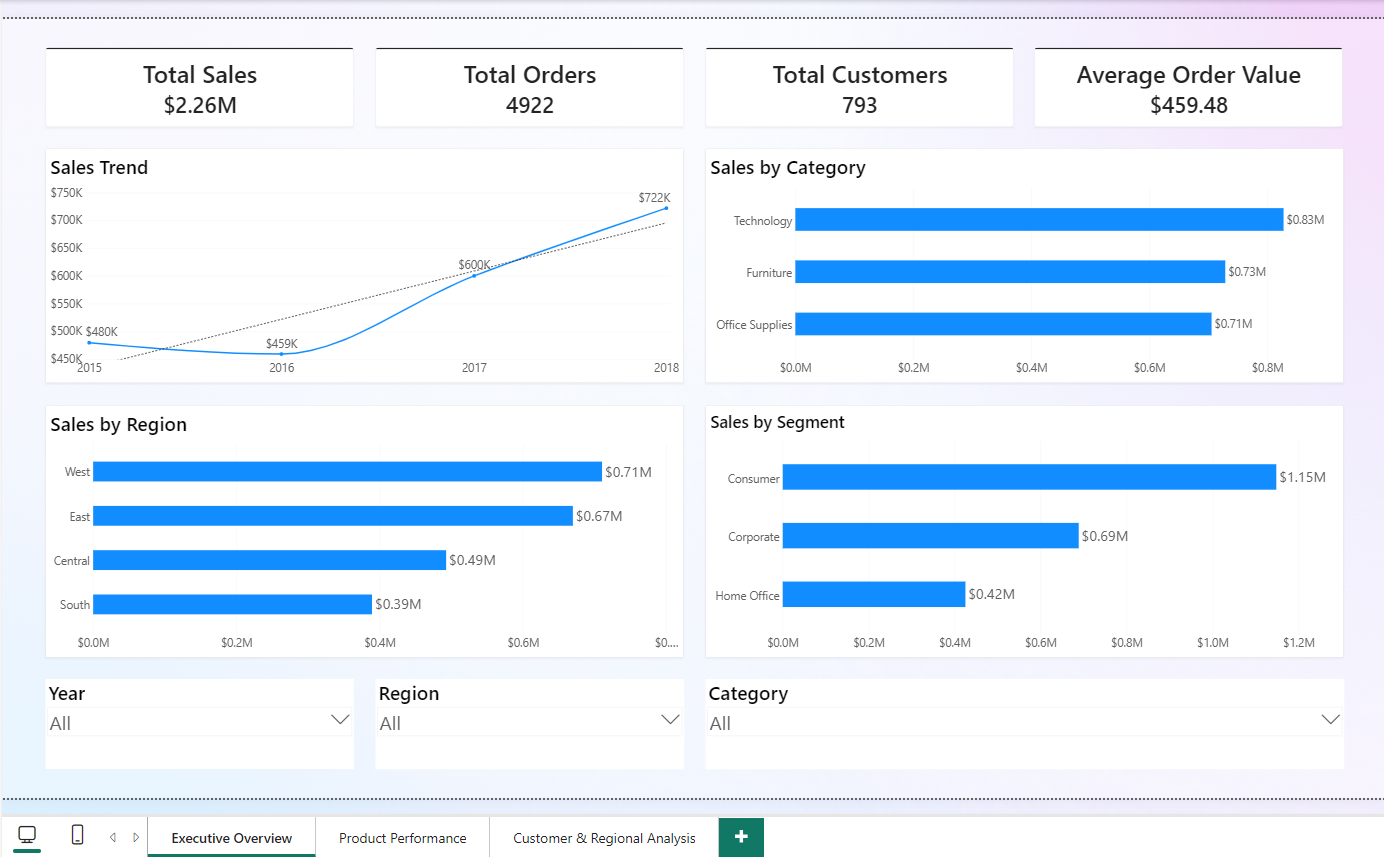

The page's visual inventory and layout, read from the dashboard file:
{"tool":"powerbi","page":{"name":"Executive Overview","canvas":[3840,2160],"ordinal":0},"visuals":[{"type":"cardVisual","fields":{"Data":["Superstore.Total Sales"]},"box":[120,80,855,220],"z":0},{"type":"cardVisual","fields":{"Data":["Superstore.Total Orders"]},"box":[1035,80,855,220],"z":1000},{"type":"cardVisual","fields":{"Data":["Superstore.Total Customers"]},"box":[1950,80,855,220],"z":2000},{"type":"cardVisual","fields":{"Data":["Superstore.Average Order Value"]},"box":[2865,80,855,220],"z":3000},{"type":"clusteredBarChart","title":"Sales by Category","fields":{"Category":["Superstore.Category"],"Y":["Superstore.Total Sales"]},"box":[1950,360,1770,650],"z":4000},{"type":"slicer","fields":{"Values":["Superstore.Order Date.Variation.Date Hierarchy.Year"]},"box":[119.6,1830,855,250],"z":5000},{"type":"slicer","fields":{"Values":["Superstore.Region"]},"box":[1035.4,1831.6,856,250.4],"z":6000},{"type":"slicer","fields":{"Values":["Superstore.Category"]},"box":[1951.2,1831.6,1771.8,250.4],"z":7000},{"type":"lineChart","title":"Sales Trend","fields":{"Category":["Superstore.Order Date.Variation.Date Hierarchy.Year"],"Y":["Superstore.Total Sales"]},"box":[120,360,1770,650],"z":8000},{"type":"clusteredBarChart","title":"Sales by Region","fields":{"Category":["Superstore.Region"],"Y":["Superstore.Total Sales"]},"box":[120,1070,1770,700],"z":9000},{"type":"clusteredBarChart","title":"Sales by Segment","fields":{"Category":["Superstore.Segment"],"Y":["Superstore.Total Sales"]},"box":[1950,1070,1770,700],"z":10000}]}

Visuals, with their boxes on the page's 3840x2160 design canvas (x1, y1, x2, y2). These are canvas units, not pixel positions in the 1384x857 screenshot, which may show the page scaled, cropped or inside an application window:
cardVisual - Superstore.Total Sales: BBox(120, 80, 975, 300)
cardVisual - Superstore.Total Orders: BBox(1035, 80, 1890, 300)
cardVisual - Superstore.Total Customers: BBox(1950, 80, 2805, 300)
cardVisual - Superstore.Average Order Value: BBox(2865, 80, 3720, 300)
"Sales by Category" clusteredBarChart: BBox(1950, 360, 3720, 1010)
slicer - Superstore.Order Date.Variation.Date Hierarchy.Year: BBox(120, 1830, 975, 2080)
slicer - Superstore.Region: BBox(1035, 1832, 1891, 2082)
slicer - Superstore.Category: BBox(1951, 1832, 3723, 2082)
"Sales Trend" lineChart: BBox(120, 360, 1890, 1010)
"Sales by Region" clusteredBarChart: BBox(120, 1070, 1890, 1770)
"Sales by Segment" clusteredBarChart: BBox(1950, 1070, 3720, 1770)
